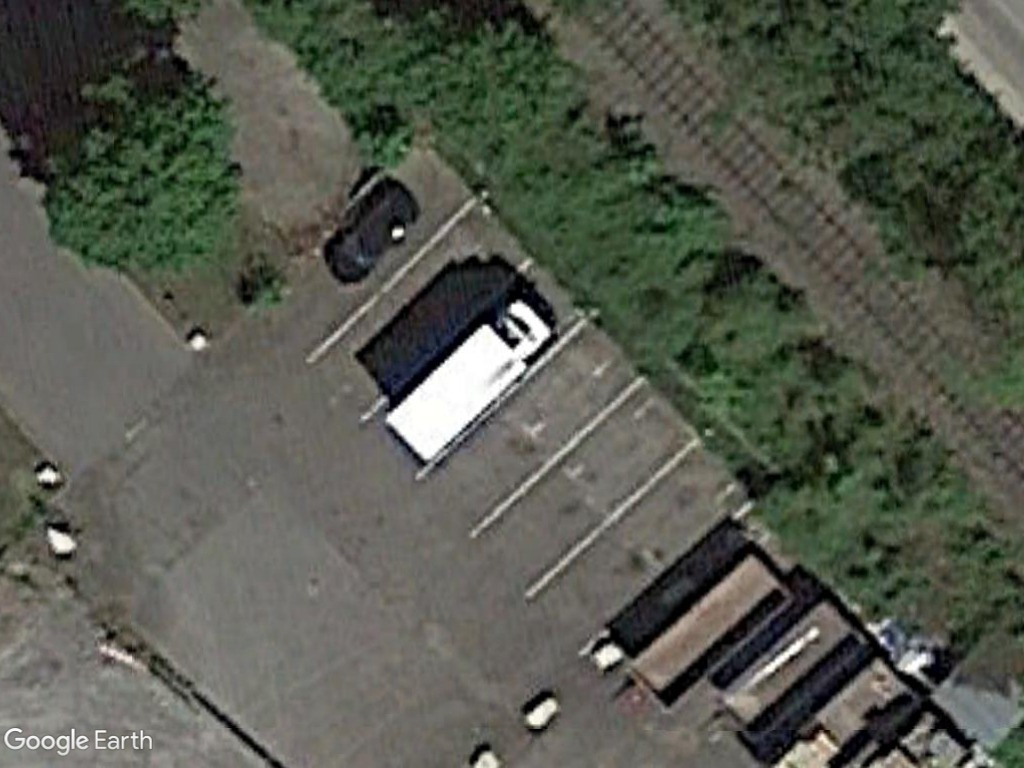truck: (379, 291, 554, 472)
